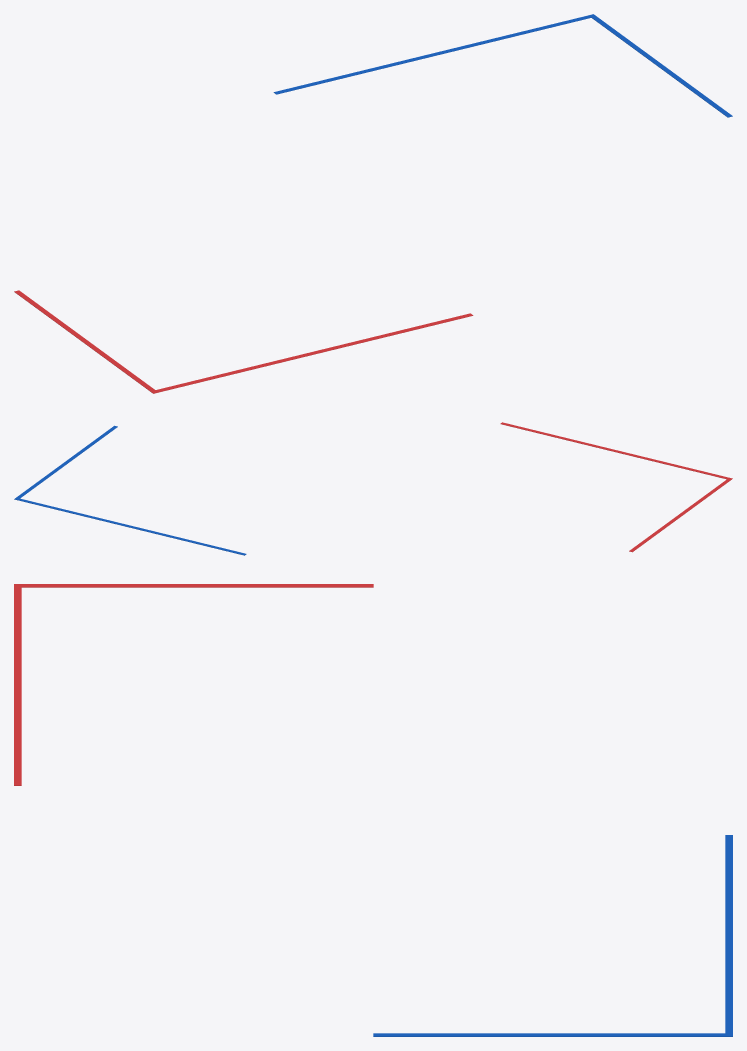
3 renders of one model, top to bottom at view 1: azimuth 30°, elevation 25°; view 2: azimuth 150°, elevation 25°; view 3: azimuth 270°, elevation 25°, orthographic. The views are drawn at different scales.
Bounding box in the file's own units: 139 × 0.05 × 93.44.
Materials: 2 (2 with a texture image).
